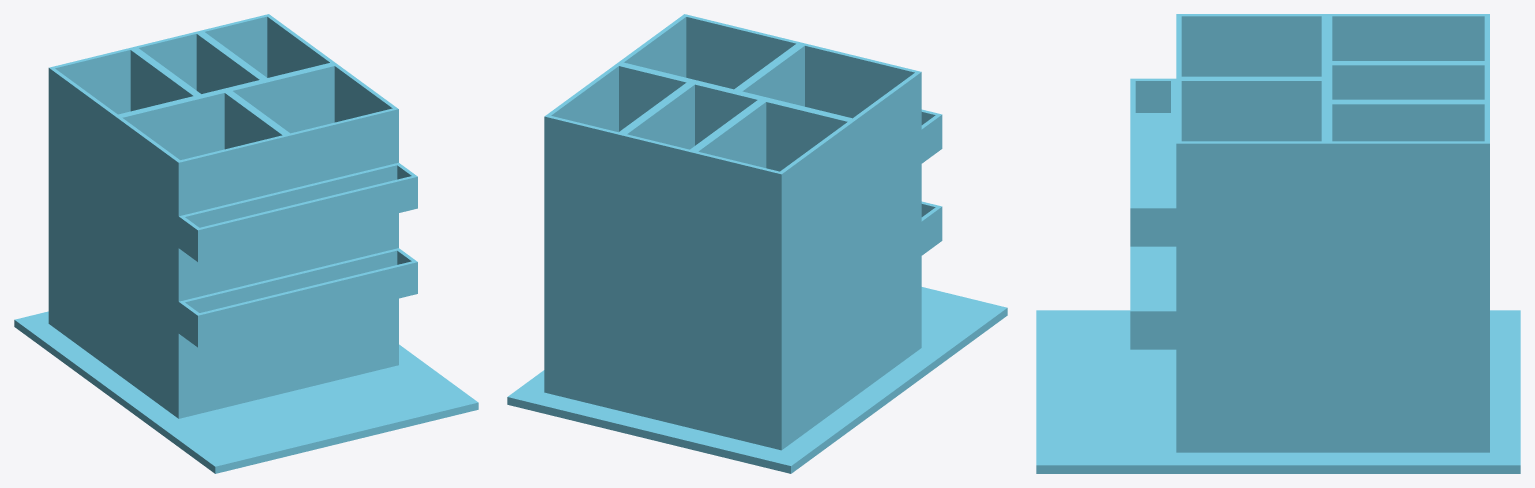
The model's file is test_prop.gltf.
The picture shows the model from 3 angles, left to right: view 1: azimuth 30°, elevation 25°; view 2: azimuth 150°, elevation 25°; view 3: azimuth 270°, elevation 25°; orthographic projection. The views are drawn at different scales.
Parts seen in each view (by area): view 1: JapanProperty3DMesh; view 2: JapanProperty3DMesh; view 3: JapanProperty3DMesh.
Boxes of the visible parts, box(x1,y1,x2,y2) form: JapanProperty3DMesh: box(14, 14, 478, 473); JapanProperty3DMesh: box(507, 14, 1007, 473); JapanProperty3DMesh: box(1036, 14, 1520, 473).
Bounding box in the file's own units: 9.52 × 9.1 × 12.58.
